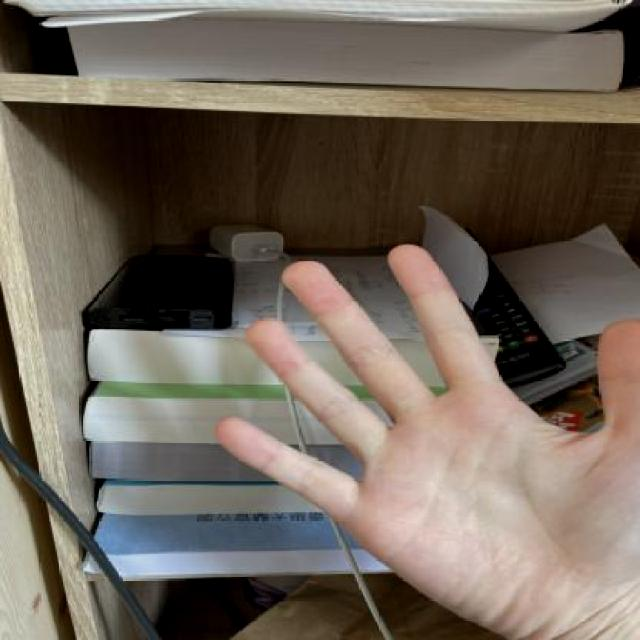no_glove: (208, 226, 640, 639)
